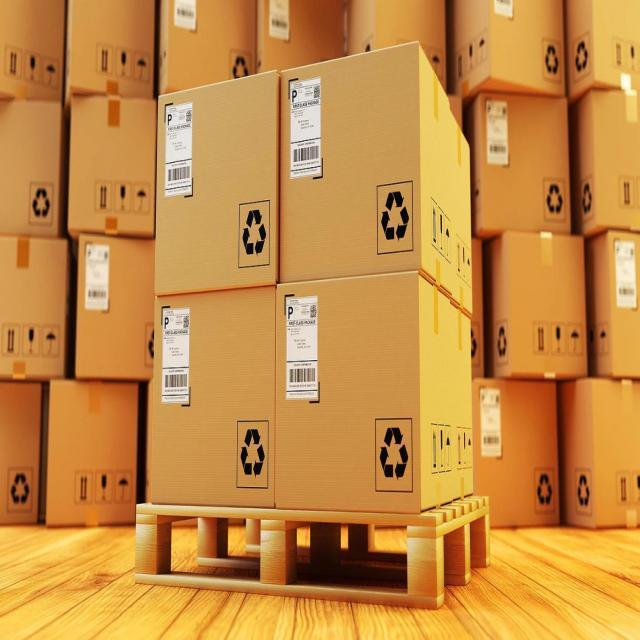box: (272, 38, 472, 323), (274, 264, 476, 513), (150, 280, 278, 510), (150, 65, 280, 288), (484, 219, 594, 388), (463, 78, 573, 238), (466, 373, 568, 539), (45, 376, 145, 535), (559, 364, 640, 534), (69, 224, 157, 378), (67, 85, 156, 236), (0, 226, 72, 388), (452, 0, 568, 98), (0, 90, 71, 249), (572, 80, 640, 232), (64, 0, 158, 106), (156, 0, 254, 87), (583, 230, 640, 378), (569, 0, 640, 111), (0, 0, 66, 111), (0, 376, 45, 534)
